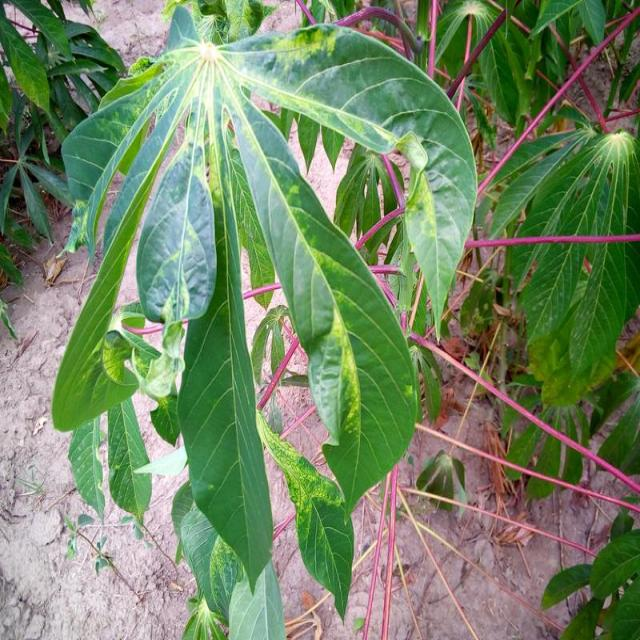cassava leaf: (53, 4, 479, 630), (224, 88, 422, 518)
